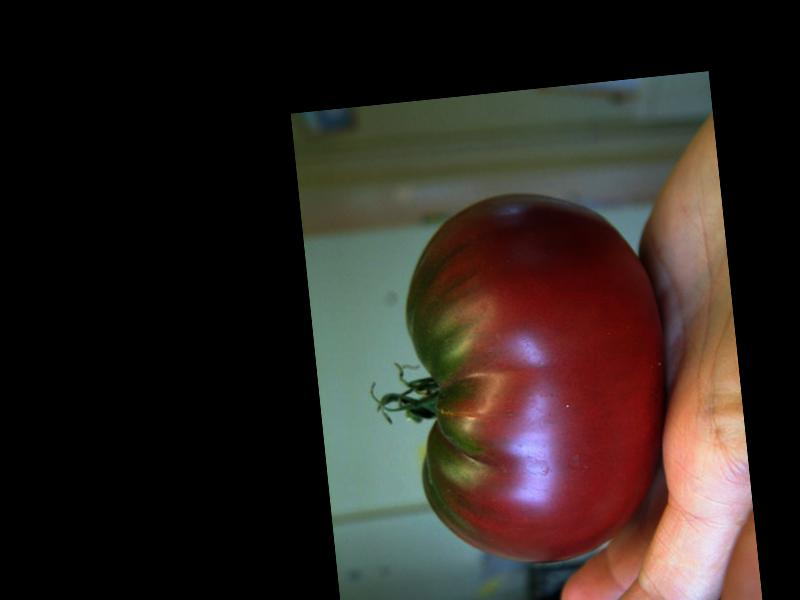Tomato: (393, 180, 684, 574)
